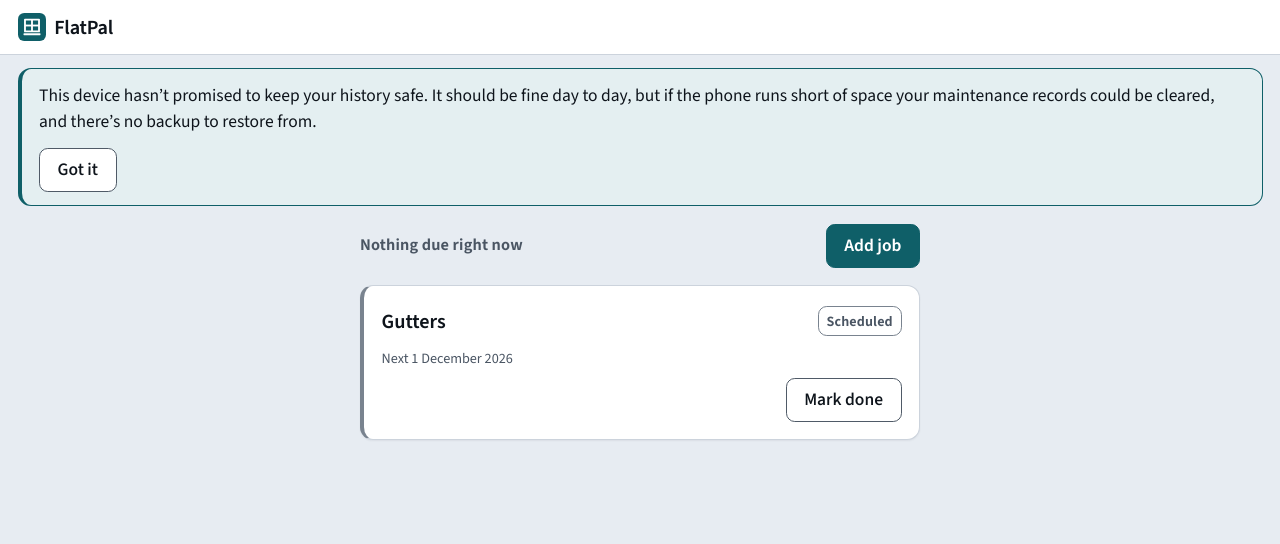
Test case: marking a job done › counts from today even when the job was not due yet
expect the button "Gutters" is shown: met, box [382,299,446,343]
Click the button "Mark done": (844, 400) [786,378,902,422]
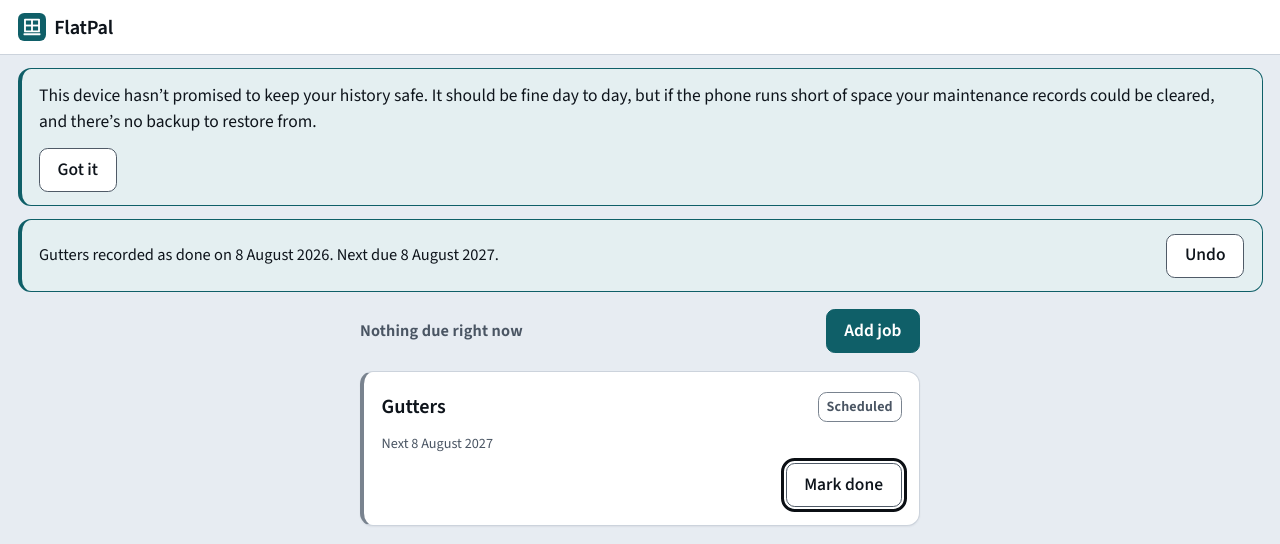
expect the list item shows "8 August 2027": met, box [411,433,493,454]
expect the text "1 December 2026" is gone: met
